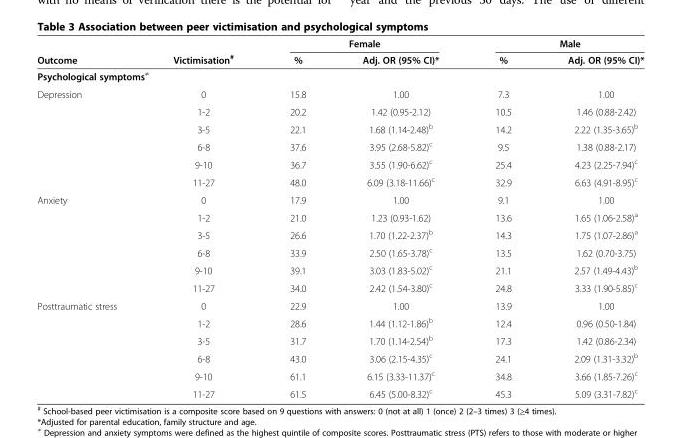table: (36, 37, 643, 399)
table column: (333, 37, 466, 399), (144, 37, 261, 399), (36, 37, 144, 399), (538, 37, 643, 399), (261, 37, 333, 399), (466, 37, 538, 399)
table column header: (36, 37, 643, 67)
table projected row header: (36, 67, 643, 85)
table row: (36, 67, 643, 85), (36, 119, 643, 137), (36, 154, 643, 172), (36, 172, 643, 190), (36, 207, 643, 225), (36, 225, 643, 243), (36, 260, 643, 278), (36, 278, 643, 296), (36, 313, 643, 331), (36, 348, 643, 366), (36, 366, 643, 384), (36, 50, 643, 67), (36, 85, 643, 102), (36, 102, 643, 119), (36, 137, 643, 154), (36, 190, 643, 207), (36, 243, 643, 260), (36, 296, 643, 313), (36, 331, 643, 348), (36, 384, 643, 399), (36, 37, 643, 50)
table spanning cell: (36, 190, 144, 296), (36, 85, 144, 190), (36, 296, 144, 399), (144, 37, 261, 67), (36, 37, 144, 67), (261, 37, 466, 50), (466, 37, 643, 50)
